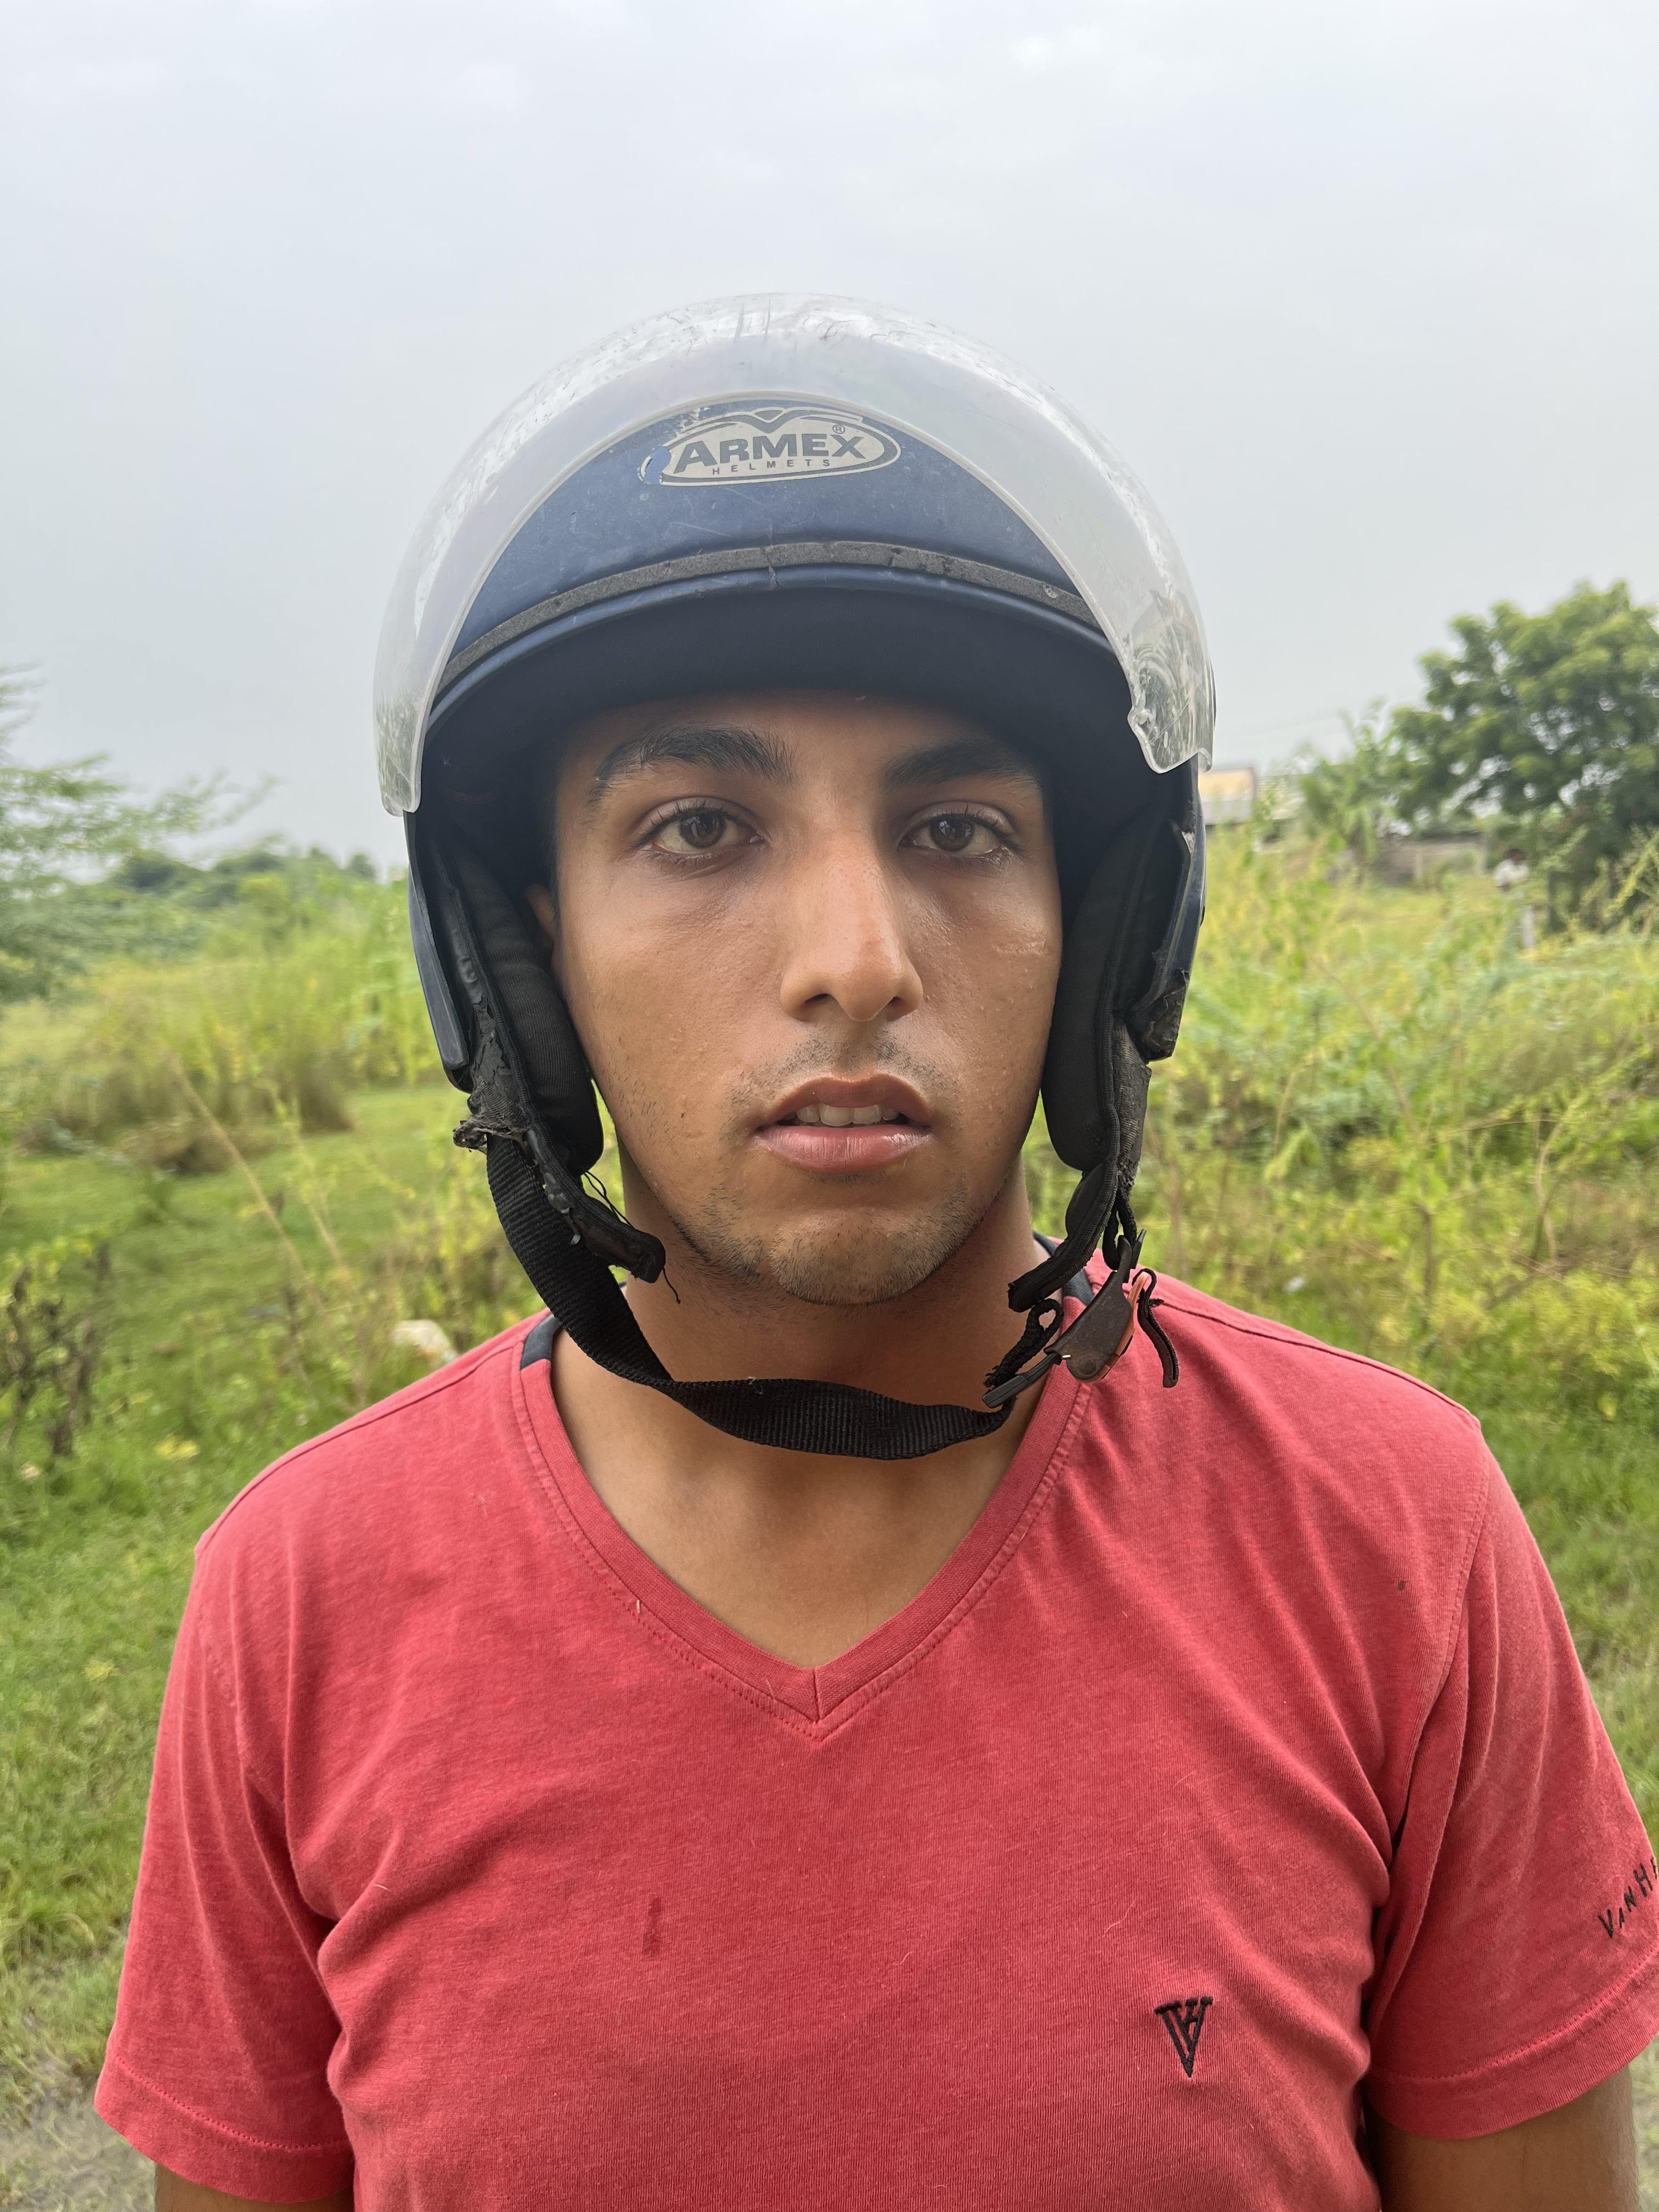helmet: (376, 298, 1215, 1460)
